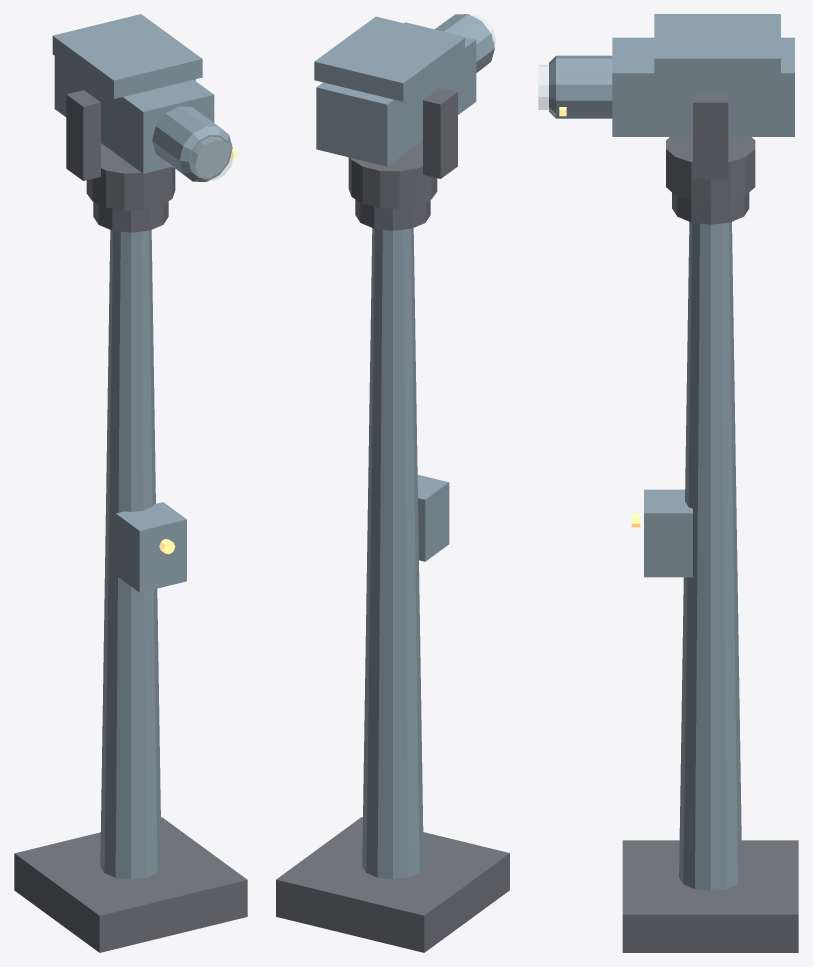
The model's file is animated-mechanisms-kit-security-camera-yoke-12d335bf.glb.
The picture shows the model from 3 angles, left to right: view 1: azimuth 30°, elevation 25°; view 2: azimuth 150°, elevation 25°; view 3: azimuth 270°, elevation 25°; orthographic projection. The views are drawn at different scales.
Parts seen in each view (by area): view 1: security-camera-yoke, head/paint, head/iron, head/glass; view 2: security-camera-yoke, head/paint, head/iron; view 3: security-camera-yoke, head/paint, head/iron.
Boxes of the visible parts, x1=… form: security-camera-yoke: x1=14, y1=201, x2=247, y2=952; head/paint: x1=52, y1=14, x2=232, y2=181; head/iron: x1=66, y1=79, x2=195, y2=210; head/glass: x1=190, y1=137, x2=233, y2=180; security-camera-yoke: x1=276, y1=199, x2=509, y2=952; head/paint: x1=314, y1=14, x2=494, y2=166; head/iron: x1=348, y1=88, x2=457, y2=208; security-camera-yoke: x1=622, y1=192, x2=798, y2=952; head/paint: x1=549, y1=14, x2=794, y2=136; head/iron: x1=666, y1=94, x2=755, y2=202.
Bounding box in the file's own units: 0.5001 × 2.76 × 0.74.
